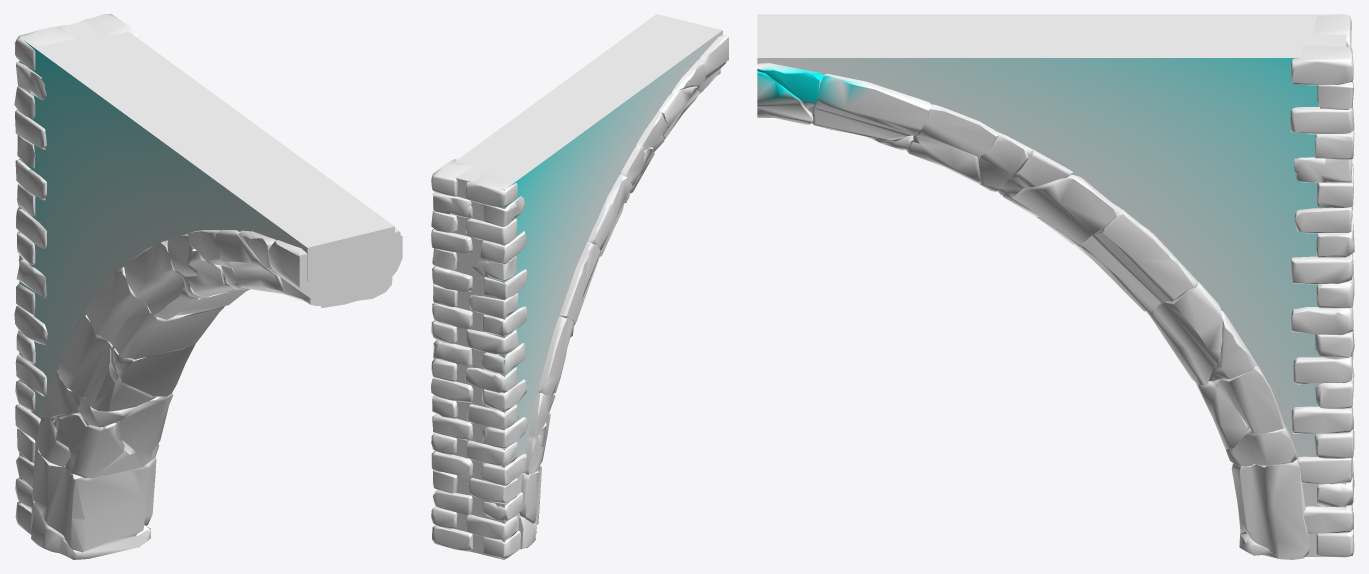
Rendered from SM_ArchWall_OpenArch_8x4_A_Half_Cap.glb.
3 views of the same model, side by side, from view 1: azimuth 30°, elevation 25°; view 2: azimuth 150°, elevation 25°; view 3: azimuth 270°, elevation 25° (orthographic). The views are drawn at different scales.
Parts seen in each view (by area): view 1: SM_ArchWall_OpenArch_8x4_A_Half_Cap_LOD0; view 2: SM_ArchWall_OpenArch_8x4_A_Half_Cap_LOD0; view 3: SM_ArchWall_OpenArch_8x4_A_Half_Cap_LOD0.
Part boxes in pixels (x1=…): SM_ArchWall_OpenArch_8x4_A_Half_Cap_LOD0: x1=14, y1=14, x2=402, y2=559; SM_ArchWall_OpenArch_8x4_A_Half_Cap_LOD0: x1=431, y1=14, x2=728, y2=559; SM_ArchWall_OpenArch_8x4_A_Half_Cap_LOD0: x1=757, y1=14, x2=1354, y2=559.
Size of the model in its own units: 0.8969 by 4.02 by 4.34.
